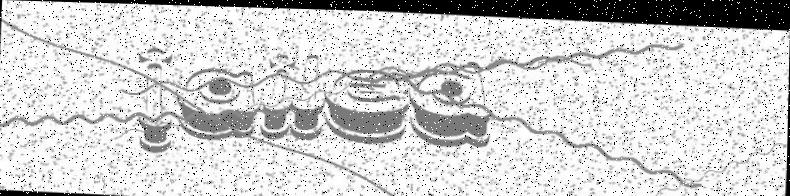a: (173, 63, 262, 142)
d: (408, 55, 495, 146)
e: (323, 64, 411, 145)
i: (132, 43, 176, 154), (260, 50, 292, 139)
l: (290, 51, 326, 139)
